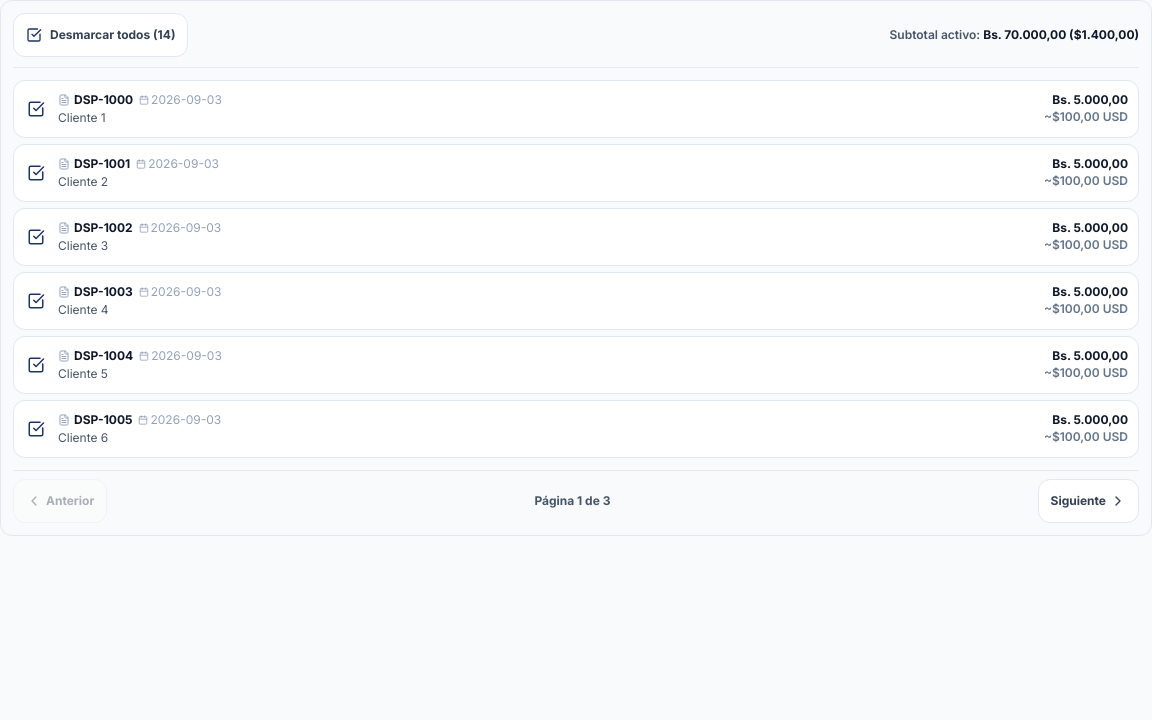
Test: SyncPosDespachosList — paginación obligatoria de 6 filas y selección individual › pagina a 6 despachos por página y permite navegar a la siguiente página
Expected: the text "DSP-1000" is shown, x1=58 y1=92 x2=133 y2=108
Expected: the text "DSP-1005" is shown, x1=58 y1=412 x2=132 y2=428
# Clic en Siguiente
Click the button "Siguiente".
click(1088, 501)  # box x1=1038 y1=479 x2=1139 y2=523
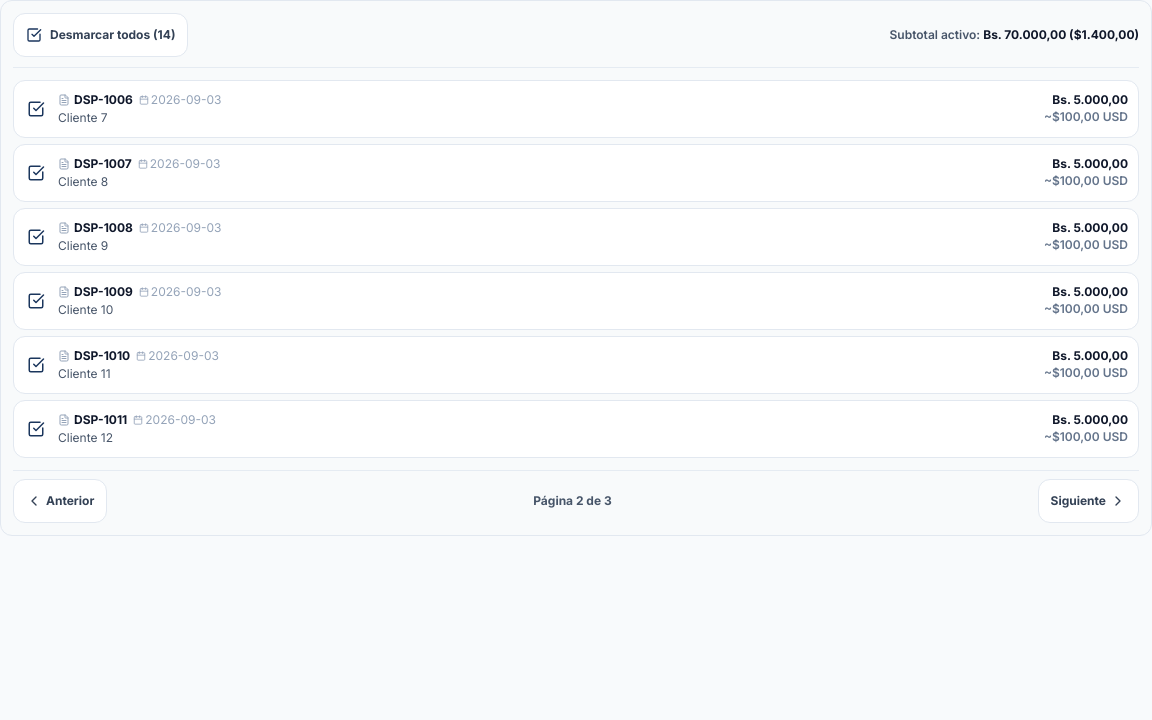
Now the text "DSP-1006" is shown, box x1=58 y1=92 x2=133 y2=108
Now the text "Página 2 de 3" is shown, box x1=533 y1=493 x2=612 y2=509
